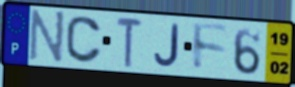6: (232, 26, 262, 77)
C: (64, 14, 104, 65)
F: (191, 20, 230, 74)
J: (152, 23, 181, 69)
N: (27, 8, 67, 66)
T: (115, 15, 145, 70)
